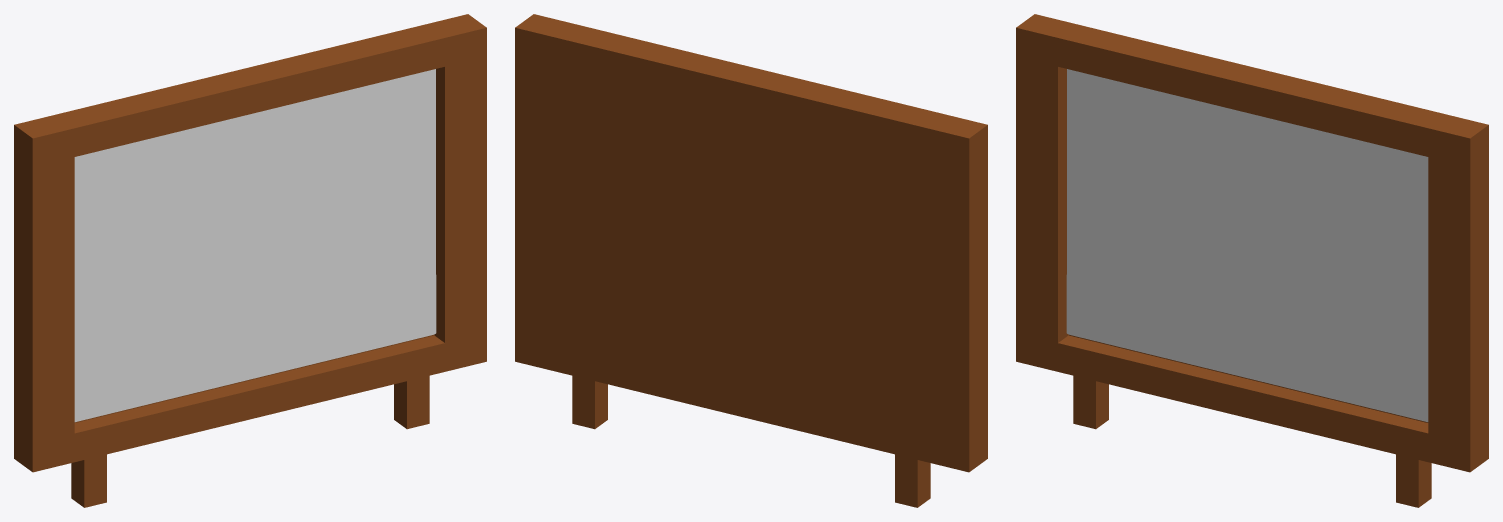
File: pizarra.glb
The picture shows the model from 3 angles, left to right: view 1: azimuth 30°, elevation 25°; view 2: azimuth 150°, elevation 25°; view 3: azimuth 330°, elevation 25°; orthographic projection.
Visible parts, largest first — view 1: Screen, Cube, Cube.001; view 2: Cube, Cube.001; view 3: Screen, Cube, Cube.001.
Boxes of the visible parts, x1=… form: Screen: x1=74, y1=69, x2=436, y2=422; Cube: x1=14, y1=14, x2=486, y2=472; Cube.001: x1=71, y1=375, x2=429, y2=507; Cube: x1=515, y1=14, x2=987, y2=472; Cube.001: x1=572, y1=375, x2=930, y2=507; Screen: x1=1066, y1=69, x2=1428, y2=422; Cube: x1=1016, y1=14, x2=1488, y2=472; Cube.001: x1=1073, y1=375, x2=1431, y2=507.
Size of the model in its own units: 27.99 by 22.67 by 2.
